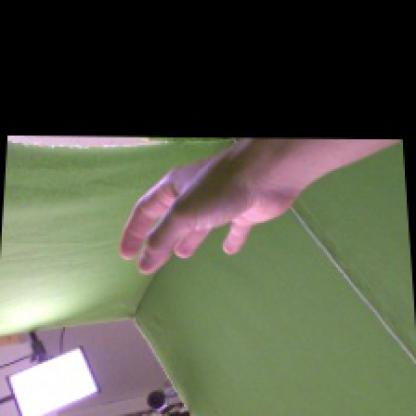Hand: (118, 150, 300, 273)
